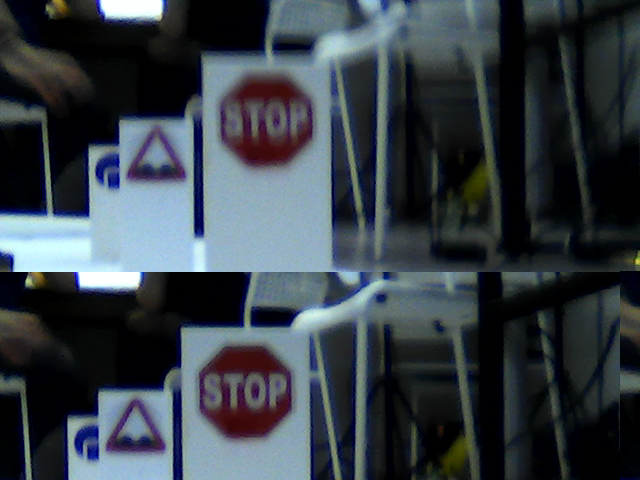Stop: (216, 71, 315, 168), (198, 344, 294, 439)
